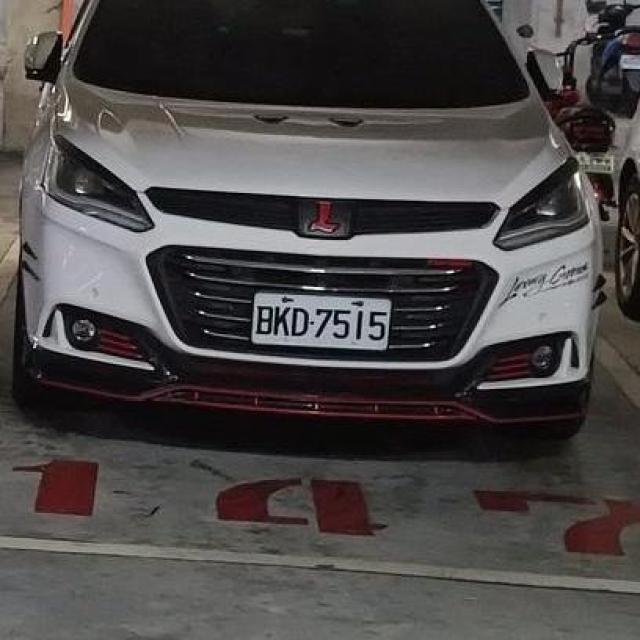W: (245, 287, 404, 359)
